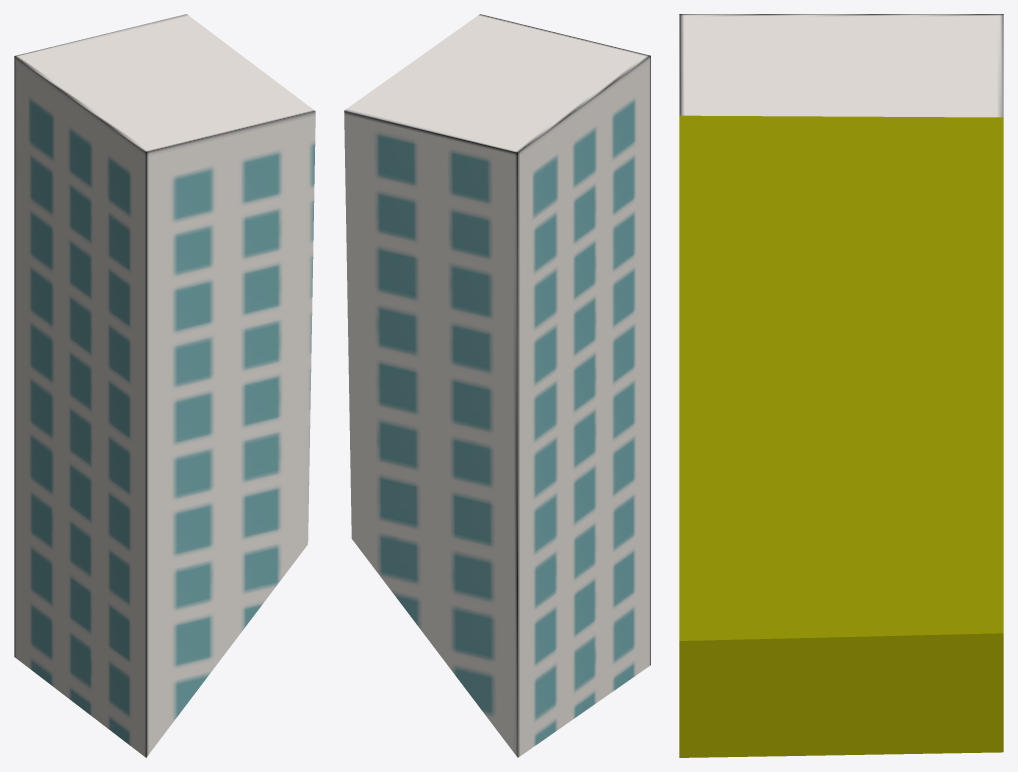
The model's file is paShard1.fbx.
The picture shows the model from 3 angles, left to right: view 1: azimuth 30°, elevation 25°; view 2: azimuth 150°, elevation 25°; view 3: azimuth 270°, elevation 25°; orthographic projection. The views are drawn at different scales.
Parts seen in each view (by area): view 1: shard14; view 2: shard14; view 3: shard14.
Boxes of the visible parts, x1,y1,x2,y2 form: shard14: (14, 14, 315, 757); shard14: (344, 14, 650, 757); shard14: (679, 14, 1003, 757).
Size of the model in its own units: 0.0692 by 0.2319 by 0.0917.
2 materials, 1 textured.
